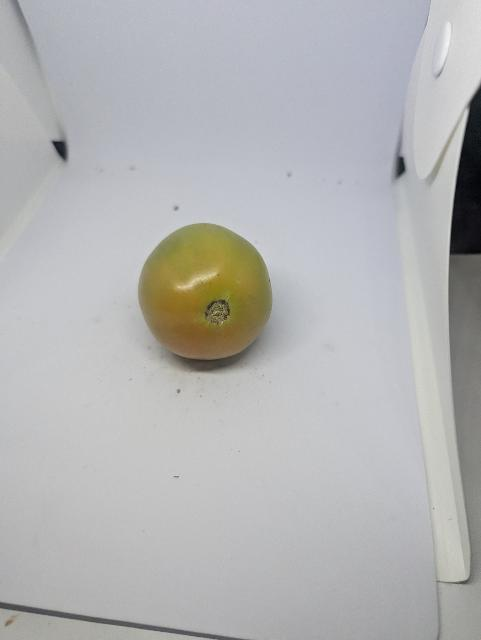breaker: (134, 218, 277, 367)
